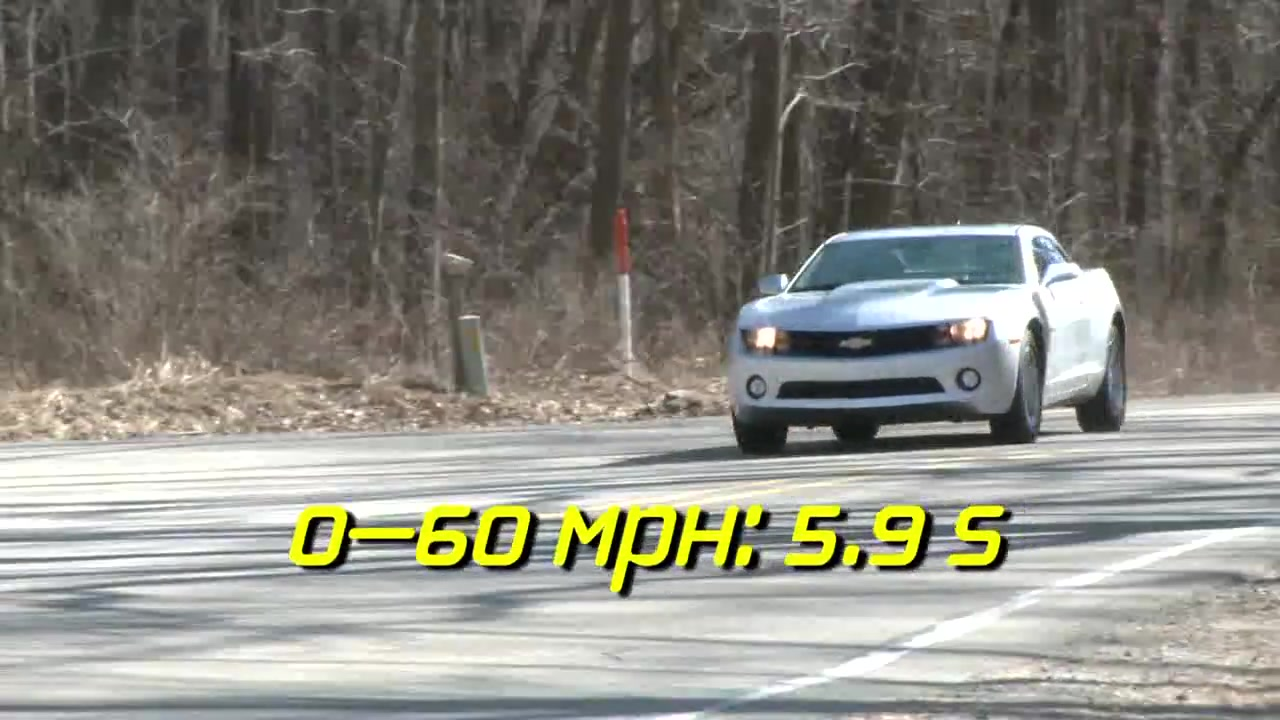car: (727, 219, 1133, 449)
